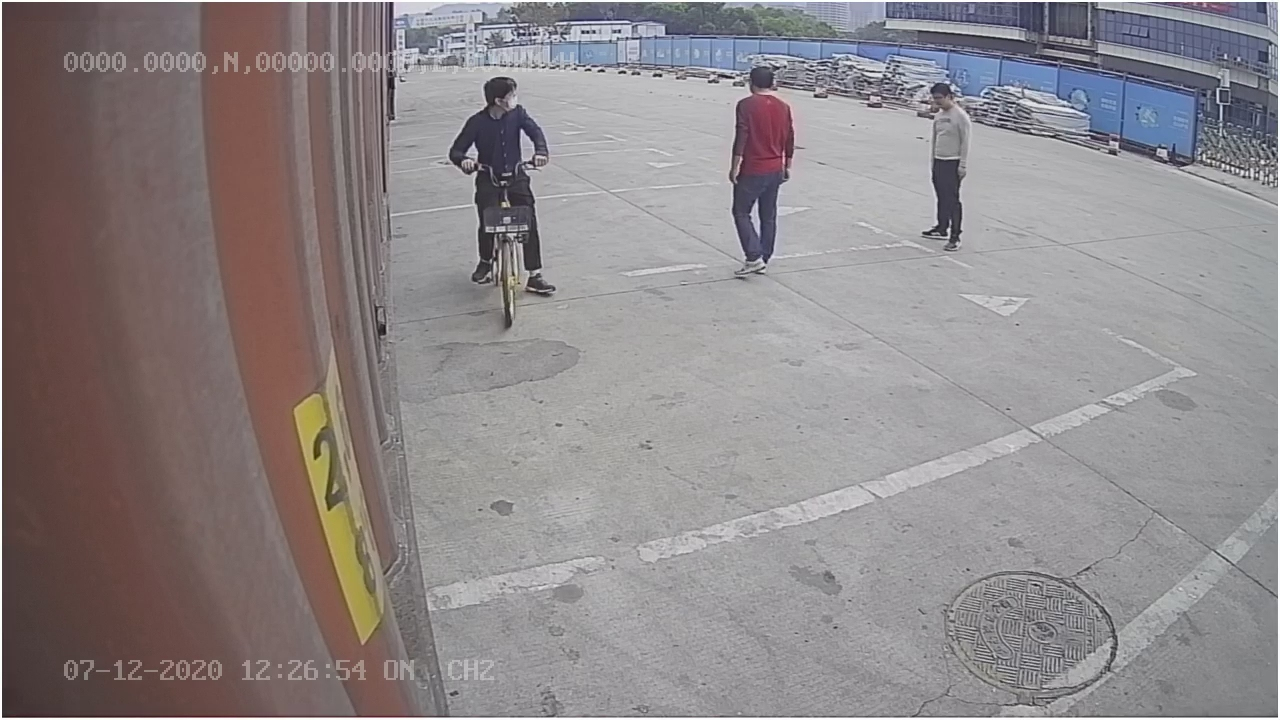person: (722, 62, 799, 280)
